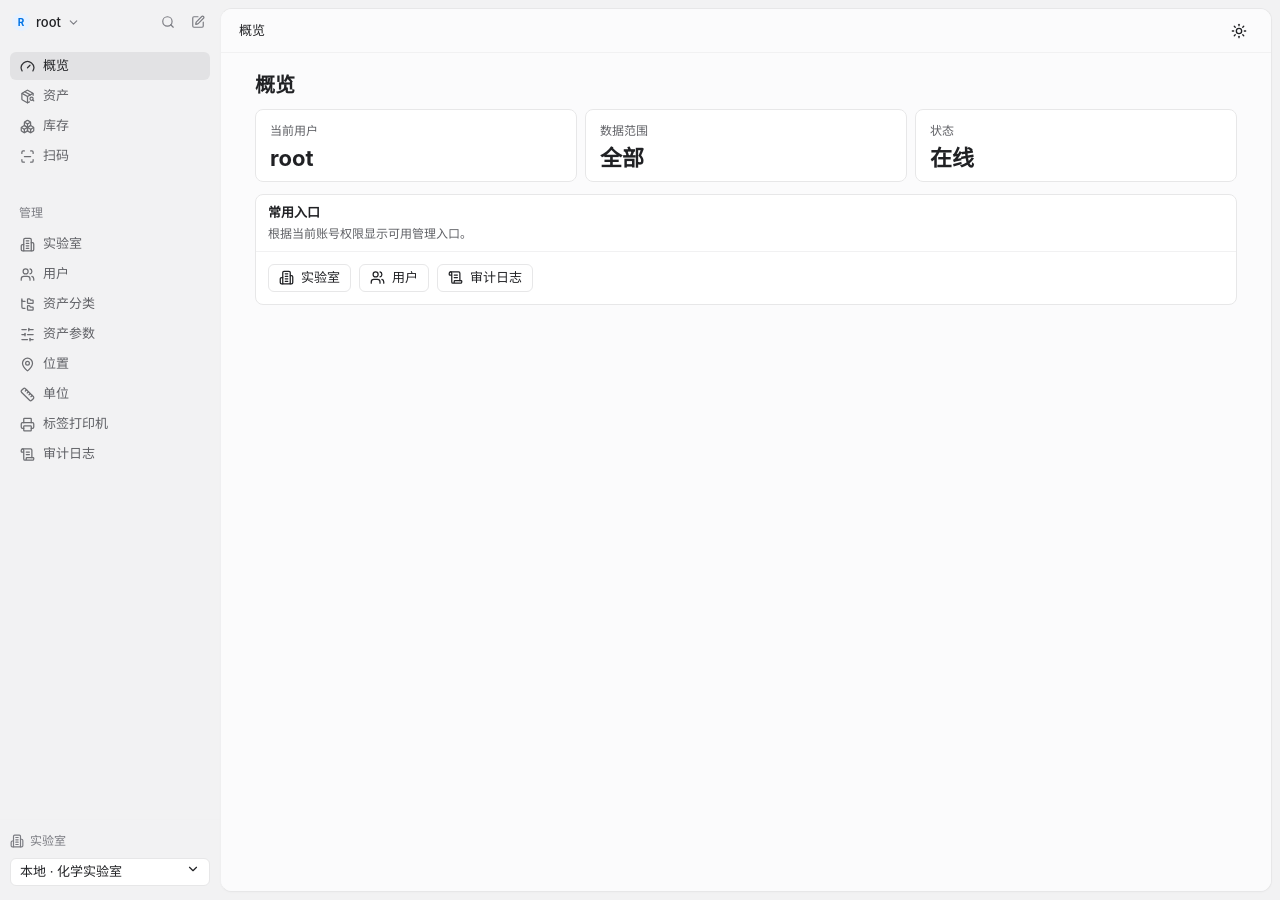
Test: CommandMenu › reports when nothing matches
Check: the heading "概览" is shown, box x1=255 y1=73 x2=295 y2=97
Click the button named "搜索".
click(168, 22)  # box x1=154 y1=8 x2=182 y2=36
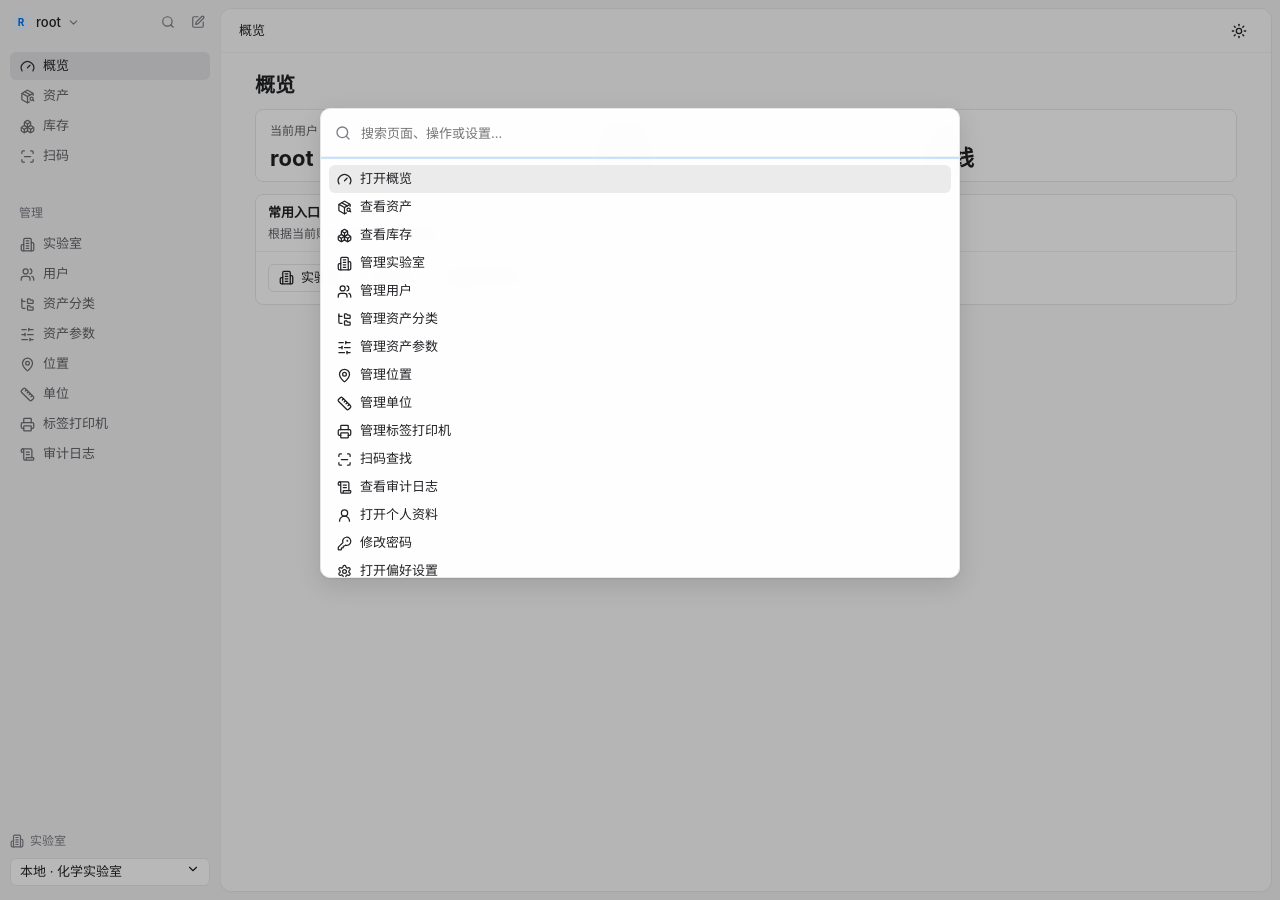
Type "zzzzz-no-such-command" into the dropdown with placeholder "搜索页面、操作或设置...".
click(640, 133); type("zzzzz-no-such-command")  # box x1=321 y1=109 x2=959 y2=157
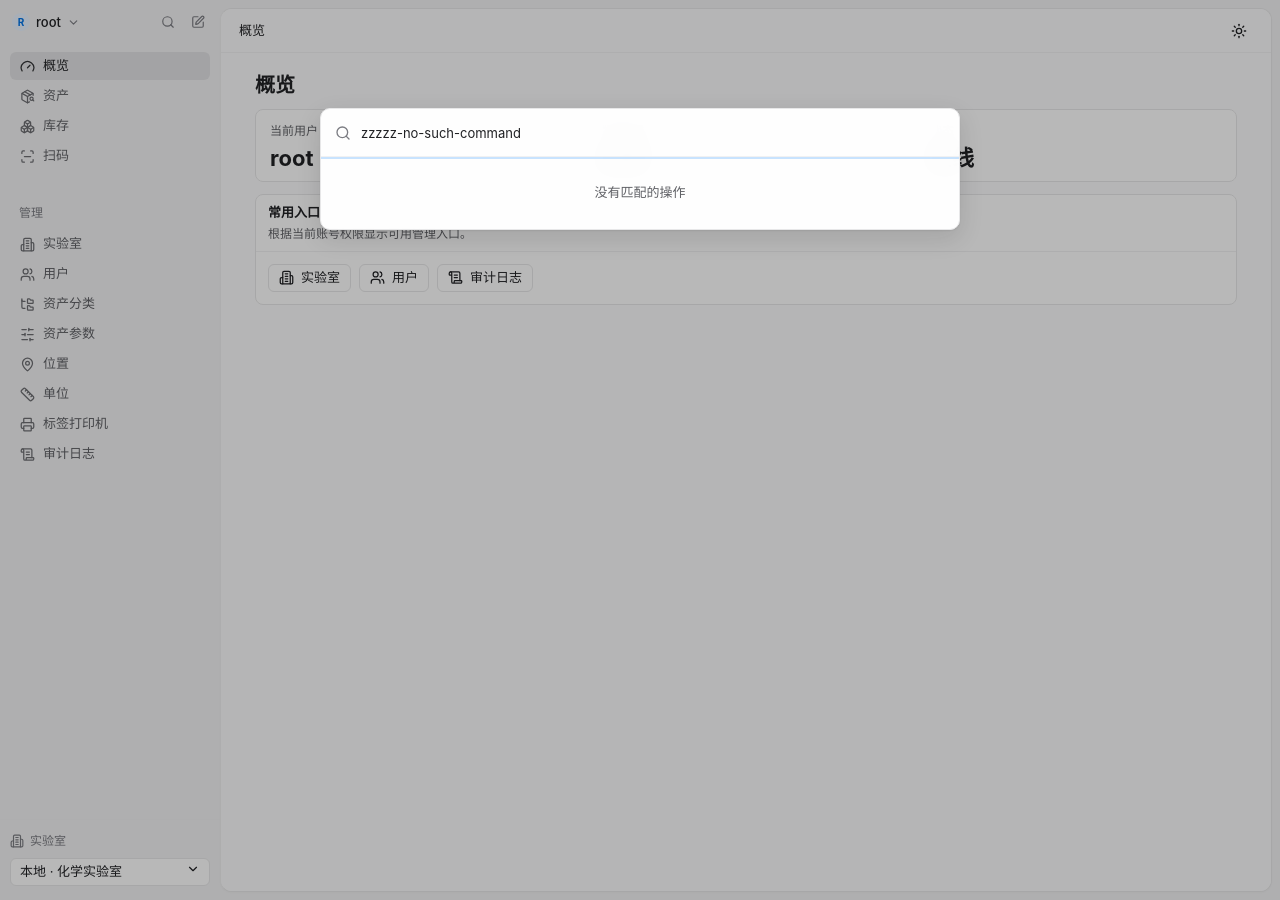
Check: the text "没有匹配的操作" is shown, box x1=594 y1=184 x2=686 y2=200
